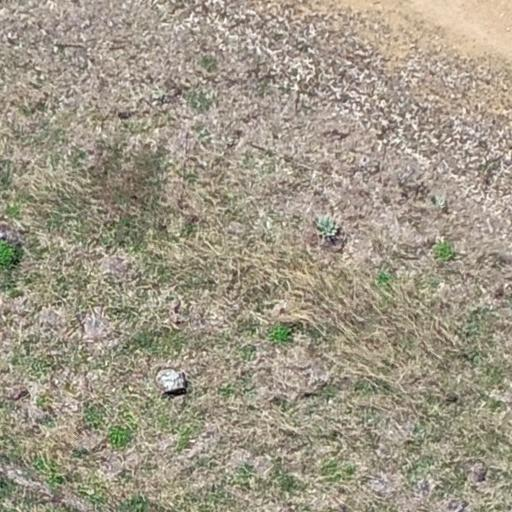stone: (159, 370, 186, 394)
